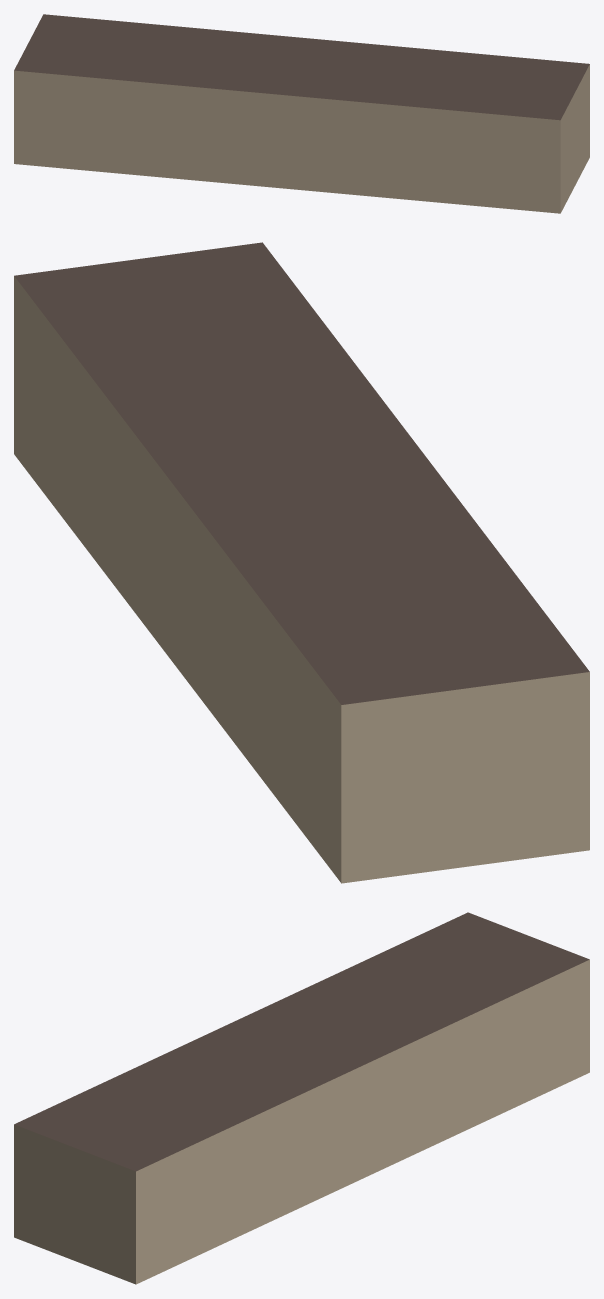
3 renders of one model, top to bottom at view 1: azimuth 30°, elevation 25°; view 2: azimuth 150°, elevation 25°; view 3: azimuth 270°, elevation 25°, orthographic. The views are drawn at different scales.
Visible parts, largest first — view 1: HP-w1286966237; view 2: HP-w1286966237; view 3: HP-w1286966237.
Part boxes in pixels (<box>): HP-w1286966237: <box>14,14,589,213</box>; HP-w1286966237: <box>14,242,589,883</box>; HP-w1286966237: <box>14,912,589,1284</box>.
Bounding box in the file's own units: 44.23 × 9 × 41.54.
